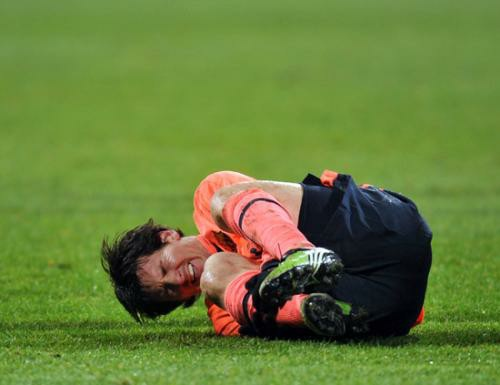fall: (106, 156, 439, 344)
